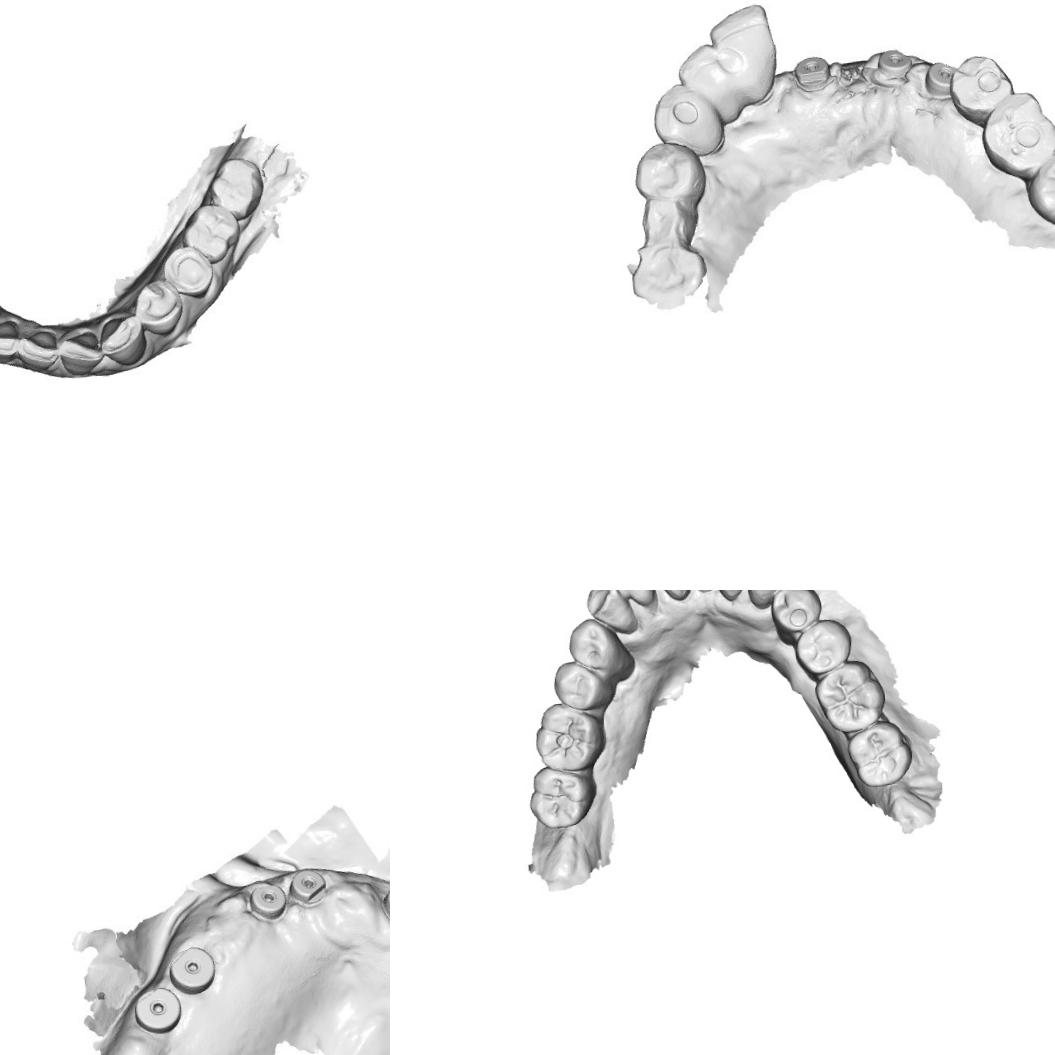canine: (643, 77, 723, 158), (94, 306, 152, 373), (583, 590, 638, 637), (742, 590, 788, 609)
implant: (132, 984, 183, 1036), (165, 945, 217, 994), (866, 43, 914, 88), (244, 879, 288, 925), (286, 864, 330, 908), (792, 56, 831, 94), (923, 62, 958, 96), (380, 883, 390, 923)
incisor: (705, 0, 782, 105), (673, 36, 745, 128), (7, 326, 64, 373), (55, 324, 101, 378), (0, 321, 21, 368), (607, 590, 655, 609), (639, 590, 690, 603)
molar: (974, 88, 1055, 178), (812, 656, 887, 736), (530, 699, 608, 774), (621, 244, 708, 308), (525, 762, 598, 830), (845, 718, 914, 788), (206, 152, 266, 224), (178, 196, 238, 267), (1023, 144, 1055, 226)
premolar: (630, 136, 712, 206), (566, 614, 636, 684), (950, 51, 1013, 126), (628, 194, 702, 256), (792, 616, 853, 680), (161, 242, 215, 308), (552, 657, 614, 712), (767, 590, 823, 647), (134, 279, 182, 339)
